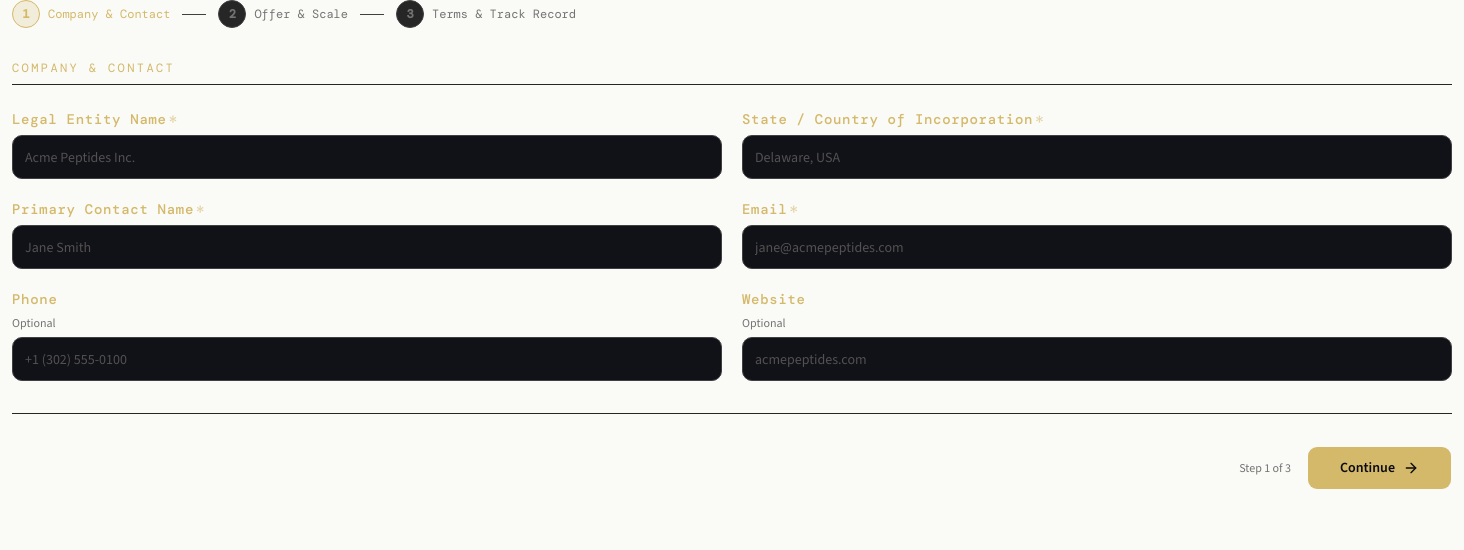
Test: SupplierIntakeForm › blocks Continue on an empty step with the field errors
Click the button "Continue": [1380, 468] box [1307,446,1452,490]
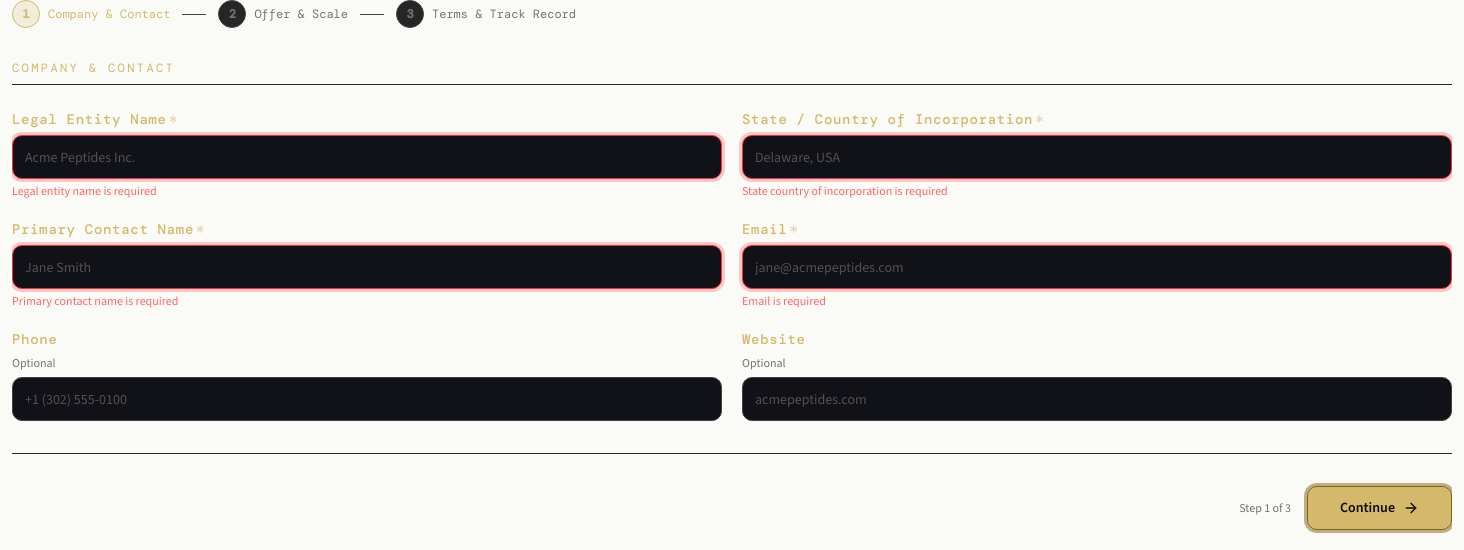
Expected: the text "Step 1 of 3" is shown, [1239,500,1291,516]
Result: the text "Legal entity name is required" is shown at [12,183,157,199]
